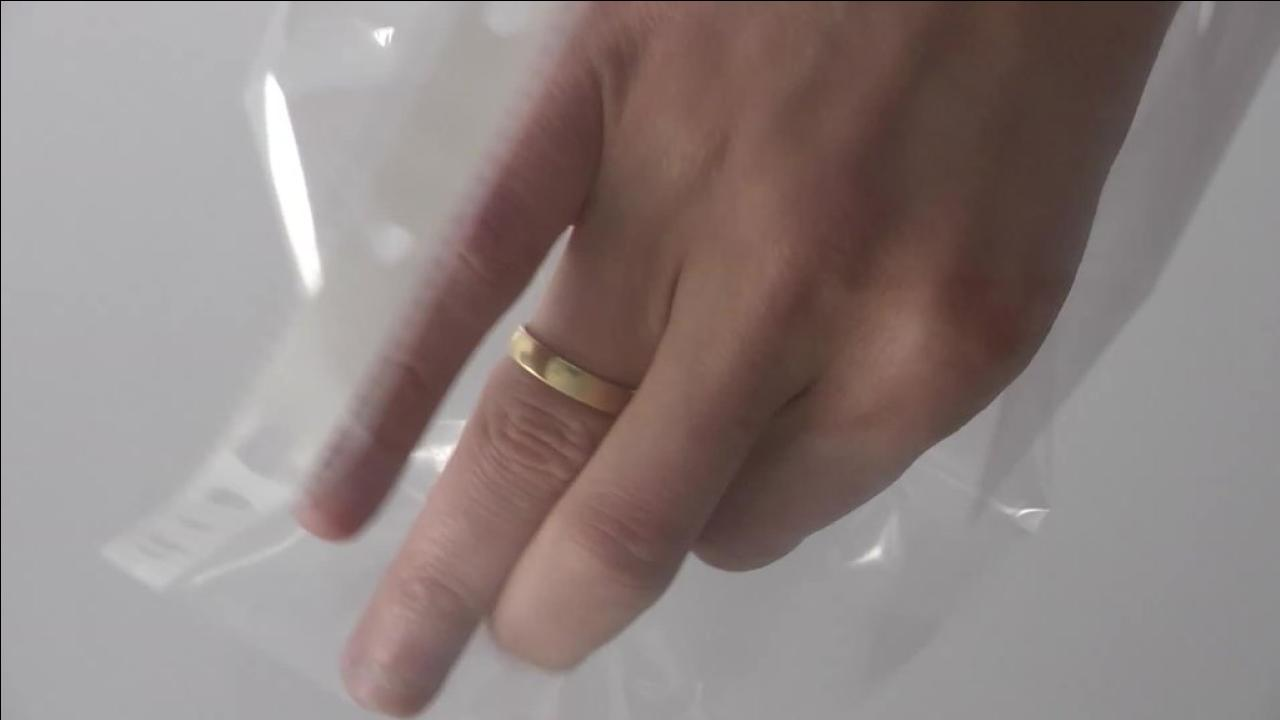ring: (504, 320, 640, 419)
